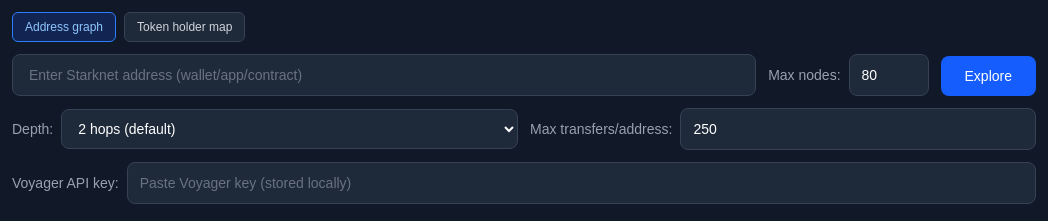
Test: TokenInput › shows quick-select buttons in token mode
The width and height of the screenshot is (1048, 221).
What coordinates should you click on to do the following:
click the button "Token holder map"
I would click on:
 (185, 27)
Its box is [124,12,245,42].
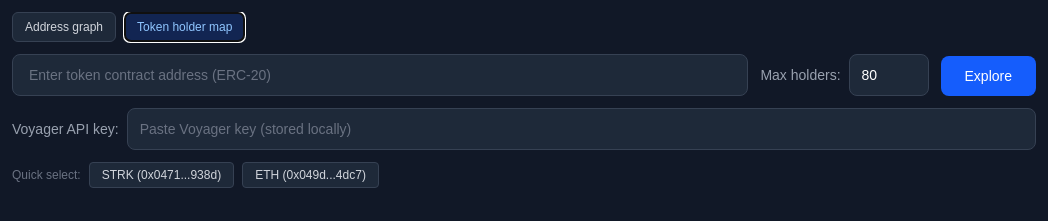
Expected: the text "Quick select:" is shown, [12,167,81,183]
Expected: the button "STRK (0x0471...938d)" is shown, [89,162,234,188]
Expected: the button "ETH (0x049d...4dc7)" is shown, [242,162,379,188]
